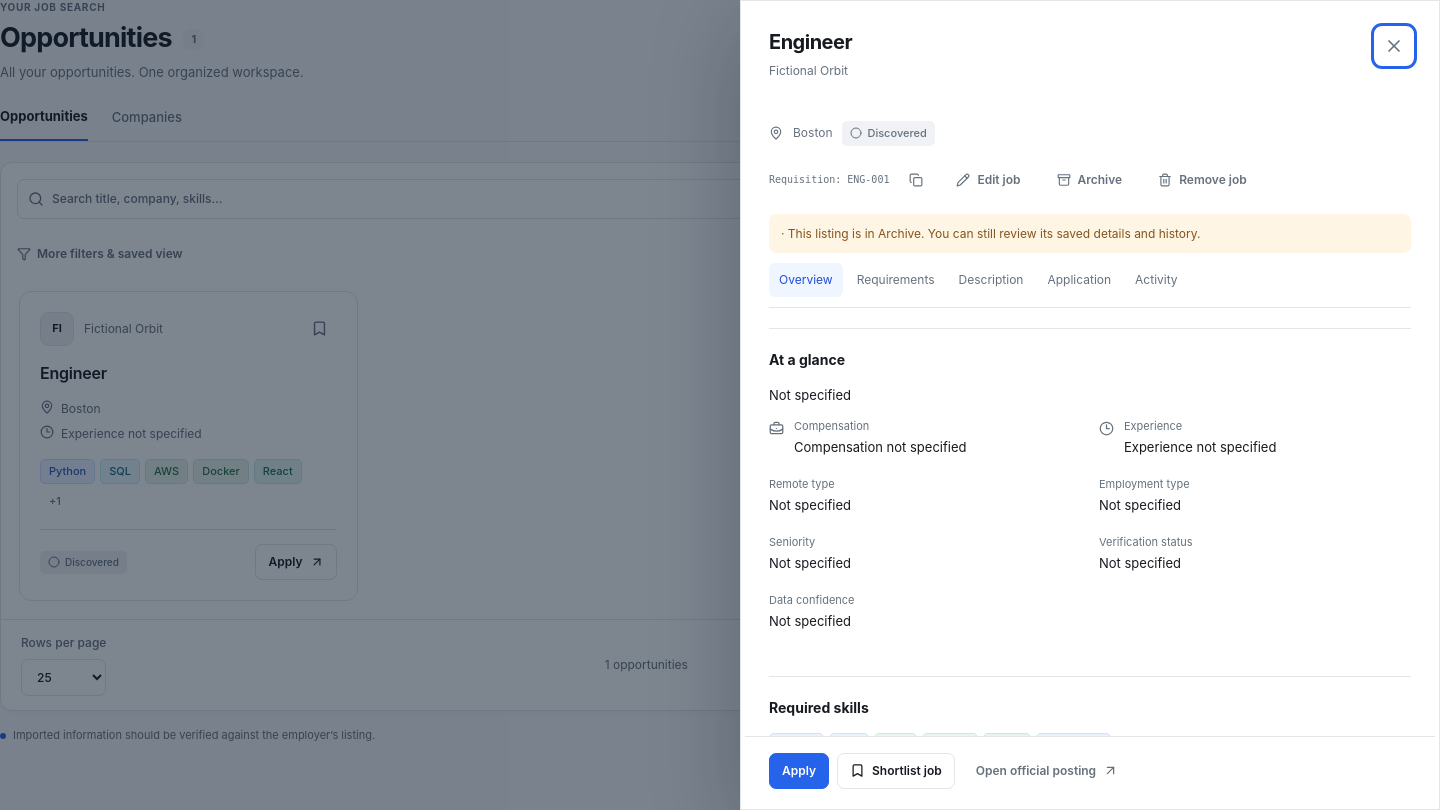
it: organizes the drawer with safe text and explicit unknown eligibility
Step 1. Click the button "Requirements" → (896, 280), box [847,263,945,297]
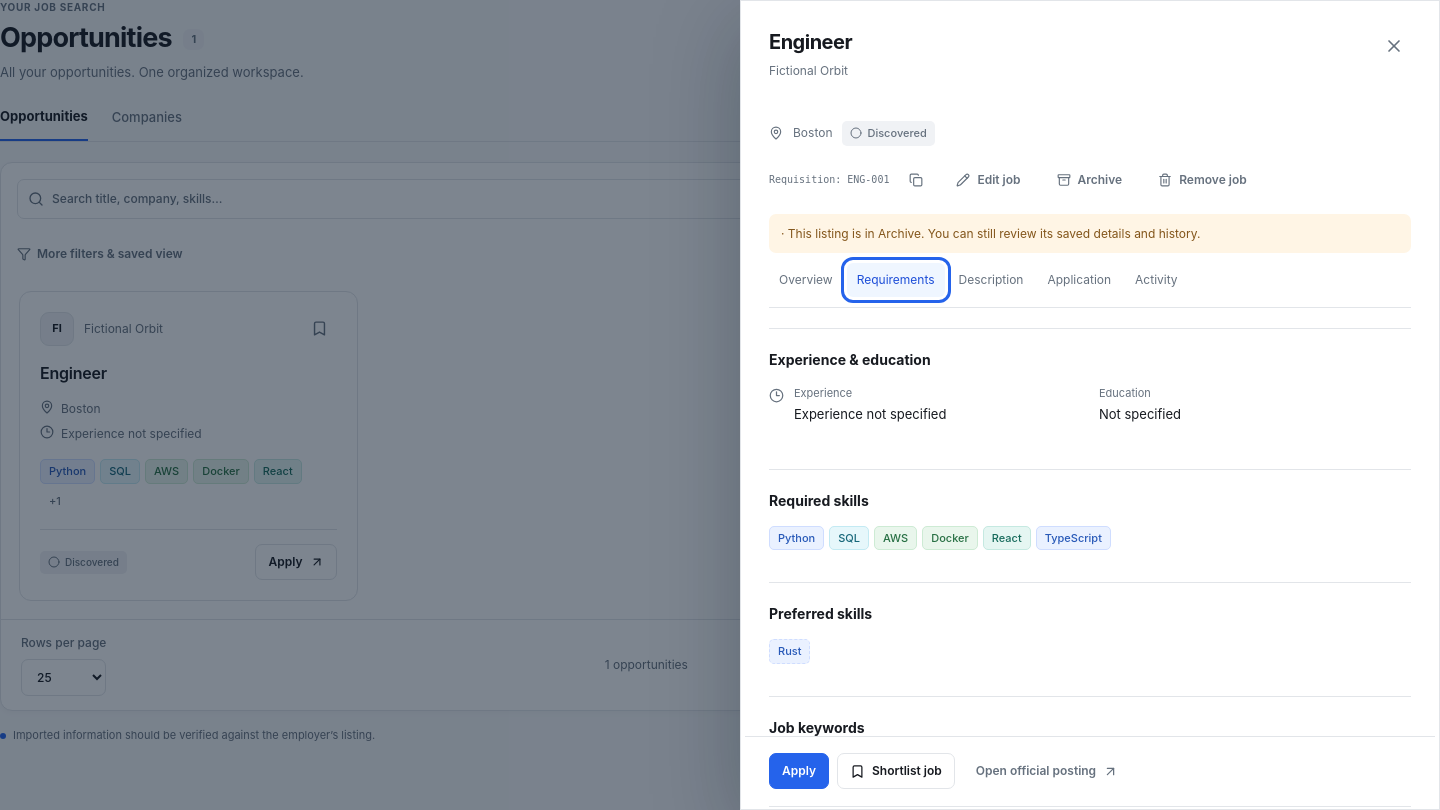
Expected: the text "Not specified" is shown, [1099,406,1181,422]
Step 2. Click the button "Description" → (991, 280), box [949,263,1034,297]
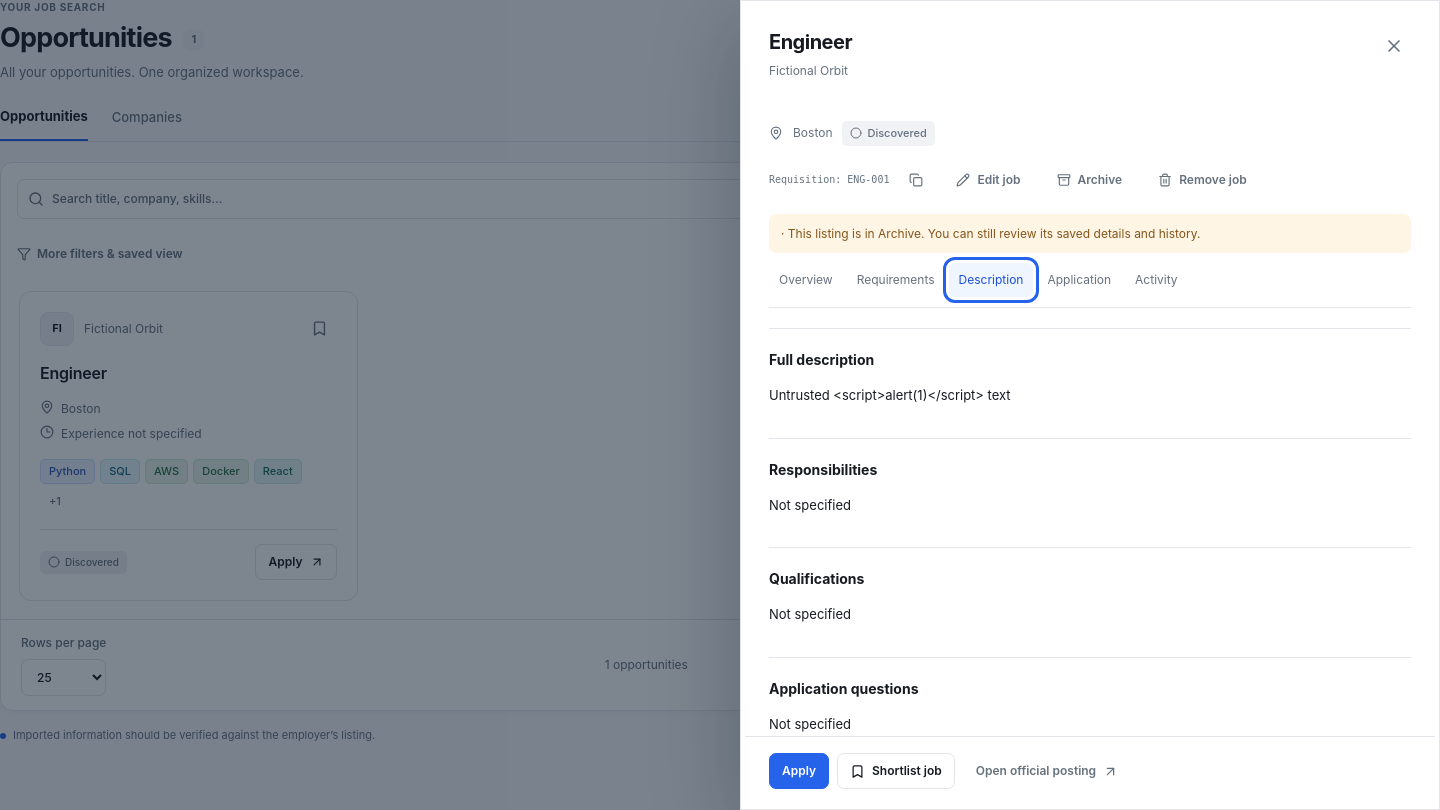
Now the text "Untrusted <script>alert(1)</script> text" is shown, box [769,387,1011,403]
Step 3. Press Escape
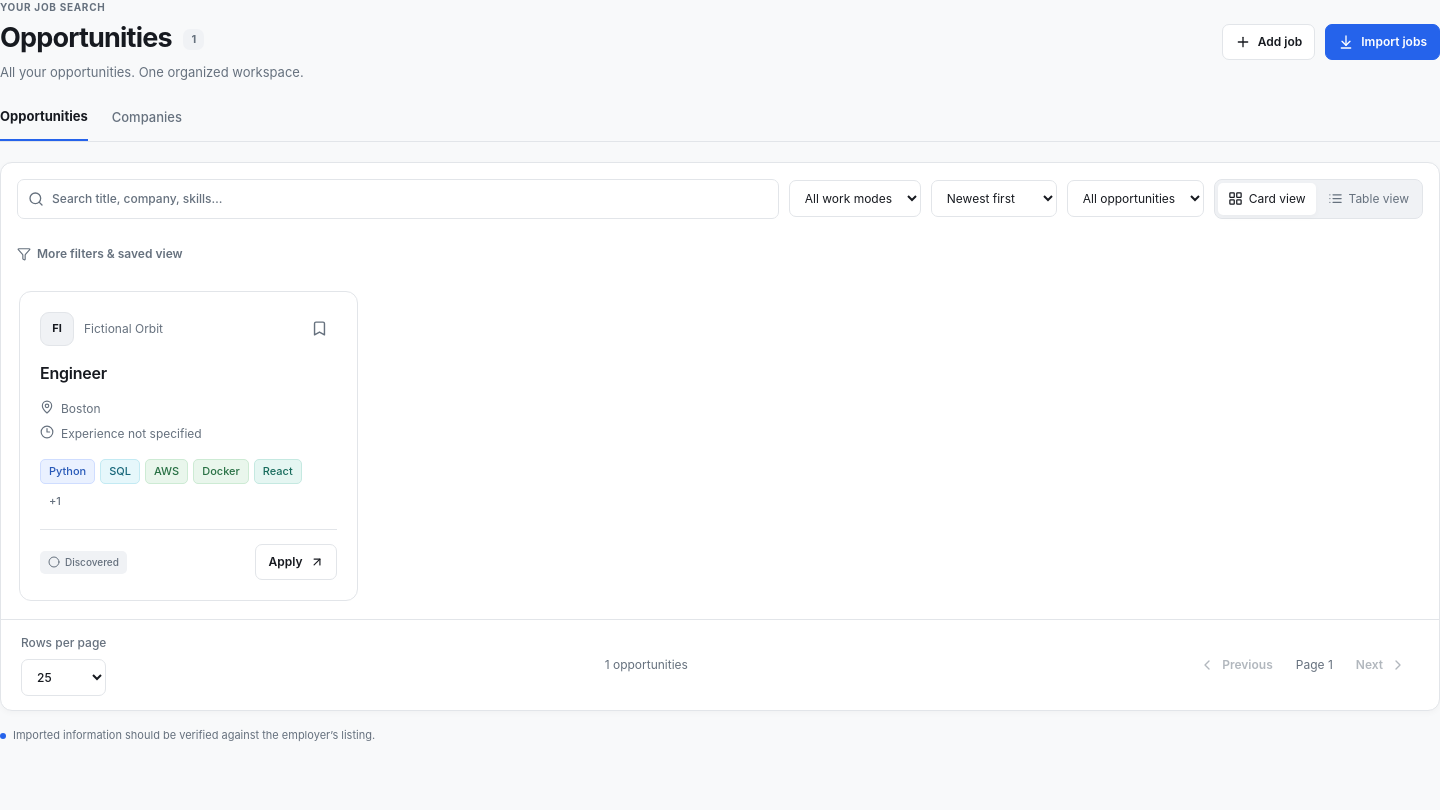
Now the dialog is gone
